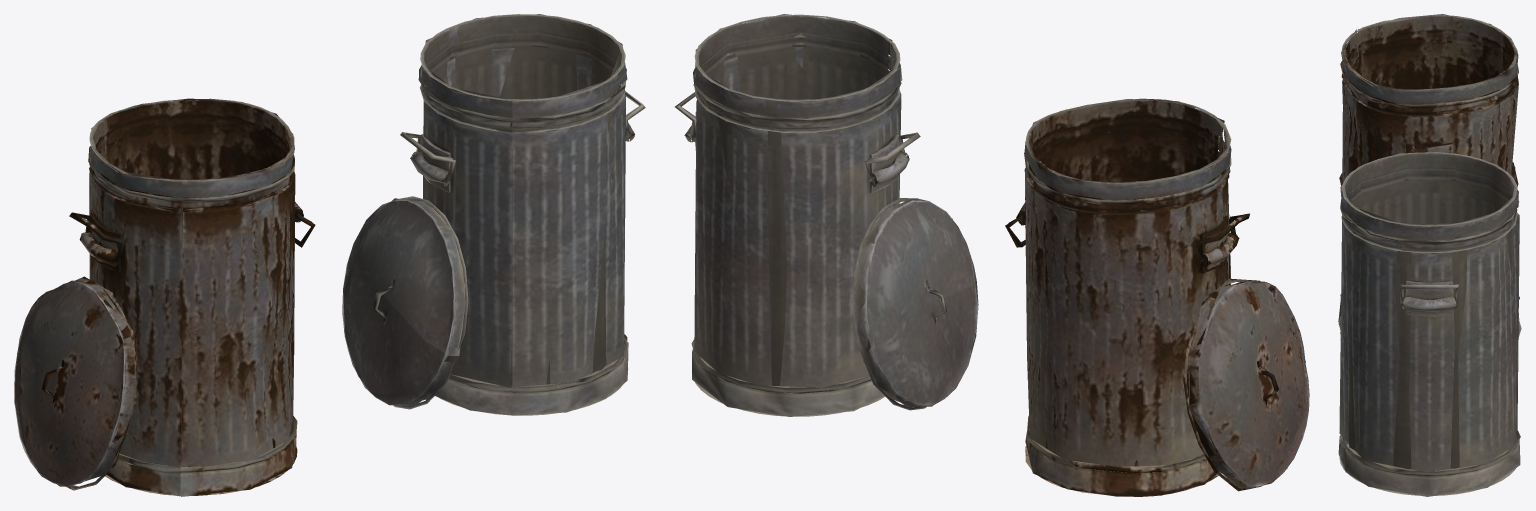
File: trash_cans.glb
3 renders of one model, left to right at view 1: azimuth 30°, elevation 25°; view 2: azimuth 150°, elevation 25°; view 3: azimuth 270°, elevation 25°, orthographic. The views are drawn at different scales.
Visible parts, largest first — view 1: trash_cans; view 2: trash_cans; view 3: trash_cans.
Boxes of the visible parts, x1,y1,x2,y2 form: trash_cans: [14, 14, 645, 496]; trash_cans: [674, 14, 1309, 496]; trash_cans: [1338, 14, 1521, 496].
Size of the model in its own units: 1.78 by 0.9064 by 0.56.
Materials: 3 (3 with a texture image).
